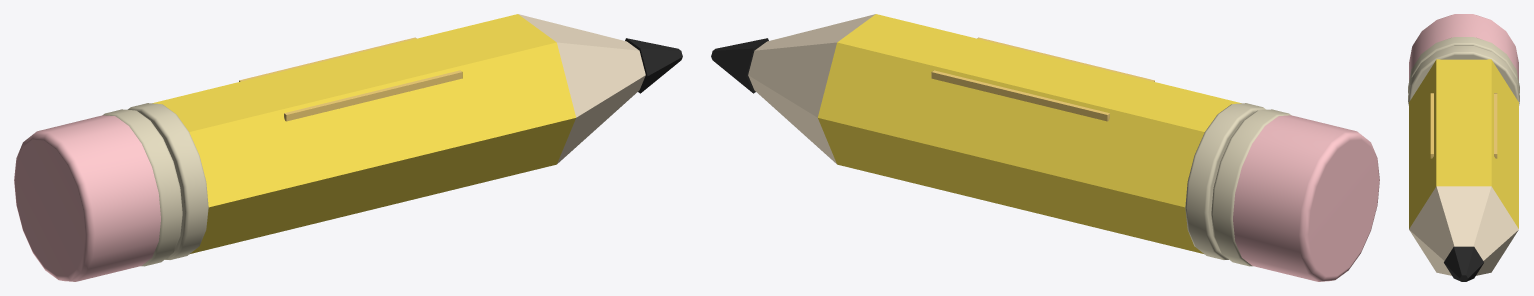
The model's file is pencil.glb.
3 renders of one model, left to right at view 1: azimuth 30°, elevation 25°; view 2: azimuth 150°, elevation 25°; view 3: azimuth 270°, elevation 25°, orthographic. The views are drawn at different scales.
Parts seen in each view (by area): view 1: hex yellow barrel, pink eraser, wooden sharpened tip, silver ferrule band.001, silver ferrule band, barrel facet highlight, black graphite point; view 2: hex yellow barrel, pink eraser, wooden sharpened tip, silver ferrule band.001, silver ferrule band, barrel facet highlight.001, black graphite point; view 3: hex yellow barrel, wooden sharpened tip, pink eraser, silver ferrule band.001, silver ferrule band, black graphite point, barrel facet highlight, barrel facet highlight.001.
Part boxes in pixels (<box>): hex yellow barrel: <box>152,14,576,253</box>; pink eraser: <box>14,115,160,281</box>; wooden sharpened tip: <box>518,14,645,163</box>; silver ferrule band.001: <box>127,103,208,259</box>; silver ferrule band: <box>103,109,182,266</box>; barrel facet highlight: <box>284,70,462,121</box>; black graphite point: <box>625,38,682,93</box>; hex yellow barrel: <box>817,14,1241,253</box>; pink eraser: <box>1233,115,1379,281</box>; wooden sharpened tip: <box>748,14,875,163</box>; silver ferrule band.001: <box>1185,103,1266,259</box>; silver ferrule band: <box>1211,109,1290,266</box>; barrel facet highlight.001: <box>931,70,1109,121</box>; black graphite point: <box>711,38,768,93</box>; hex yellow barrel: <box>1409,59,1518,228</box>; wooden sharpened tip: <box>1409,186,1518,275</box>; pink eraser: <box>1409,14,1518,80</box>; silver ferrule band.001: <box>1408,45,1519,105</box>; silver ferrule band: <box>1408,37,1519,93</box>; black graphite point: <box>1444,246,1483,281</box>; barrel facet highlight: <box>1430,93,1433,158</box>; barrel facet highlight.001: <box>1494,93,1497,158</box>.
Bounding box in the file's own units: 1.21 × 0.26 × 0.264.
